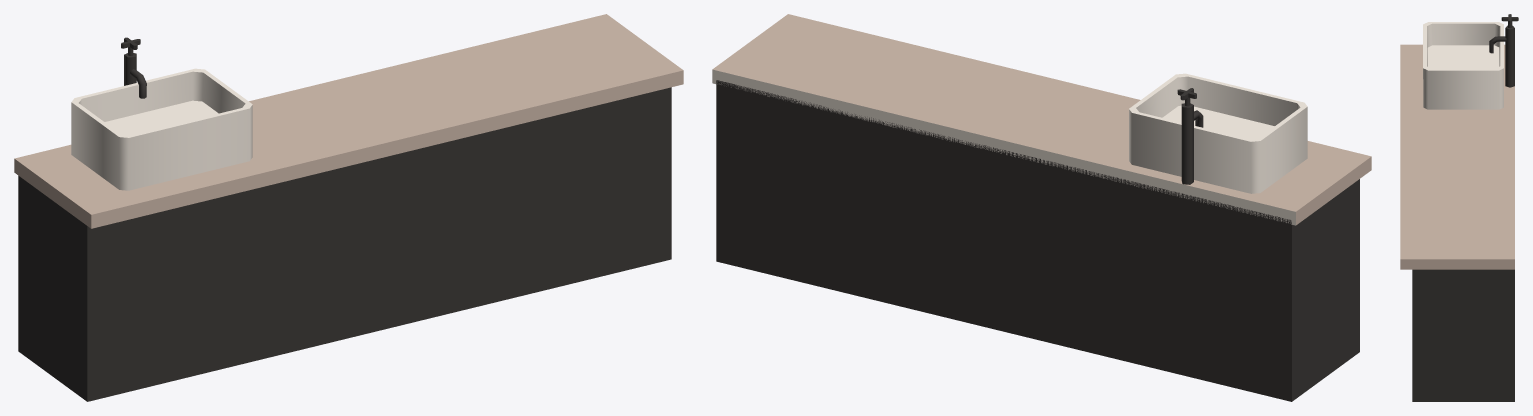
File: sink.FBX
3 views of the same model, side by side, from view 1: azimuth 30°, elevation 25°; view 2: azimuth 150°, elevation 25°; view 3: azimuth 270°, elevation 25° (orthographic). The views are drawn at different scales.
Visible parts, largest first — view 1: table, sink, Faucet; view 2: table, sink, Faucet; view 3: table, sink, Faucet.
Boxes of the visible parts, left/top/right/bottom form: table: left=14, top=14, right=683, bottom=401; sink: left=71, top=68, right=252, bottom=190; Faucet: left=121, top=37, right=146, bottom=98; table: left=712, top=14, right=1371, bottom=401; sink: left=1129, top=73, right=1307, bottom=193; Faucet: left=1177, top=88, right=1203, bottom=184; table: left=1400, top=44, right=1514, bottom=401; sink: left=1423, top=22, right=1503, bottom=109; Faucet: left=1489, top=14, right=1518, bottom=87.
Bounding box in the file's own units: 311 × 143 × 72.17.
Materials: 1 (1 with a texture image).
